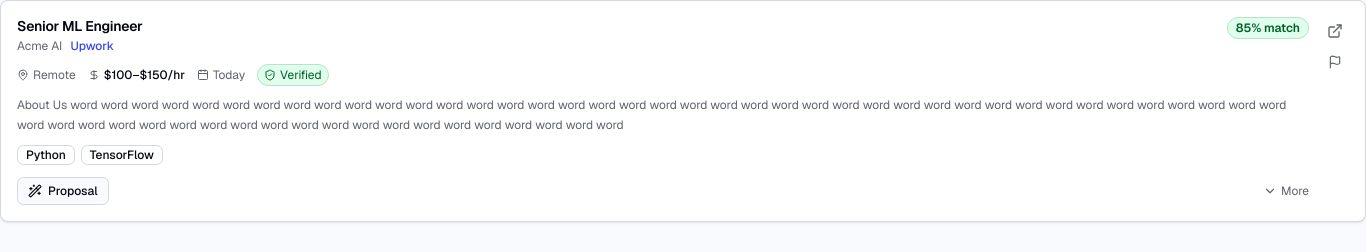
Test: JobCard – interactions › expands and collapses a long description
The image size is (1366, 252).
Click the button "More" at {"x": 1286, "y": 191}, box [1263,183,1309,199]
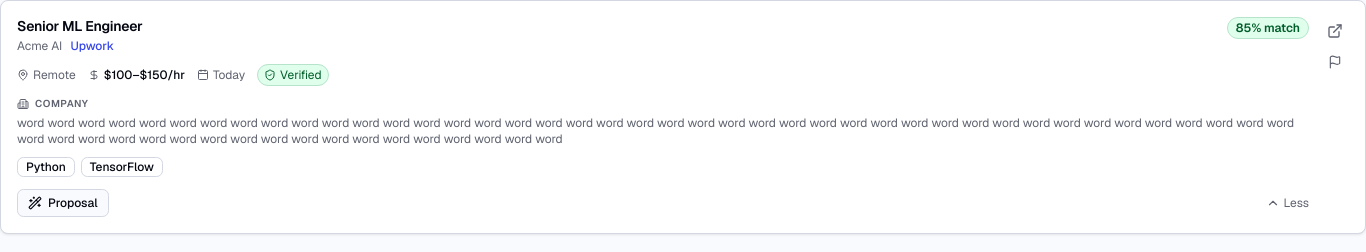
Now the button "Less" is shown
Click the button "Less" at {"x": 1287, "y": 203}, box [1266,195,1309,211]
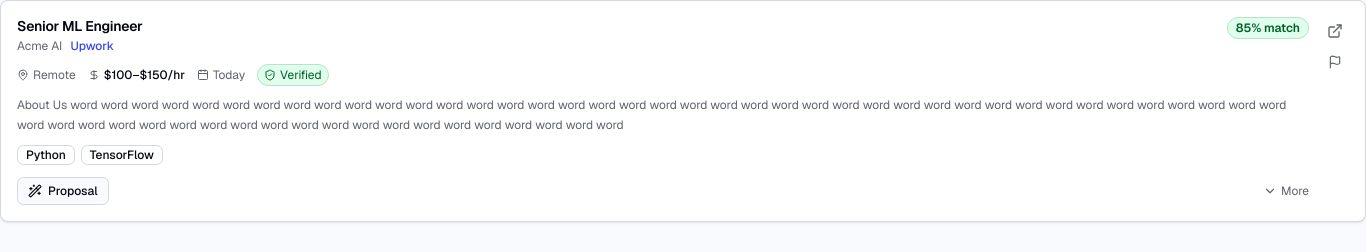
Now the button "More" is shown, box [1263,183,1309,199]
